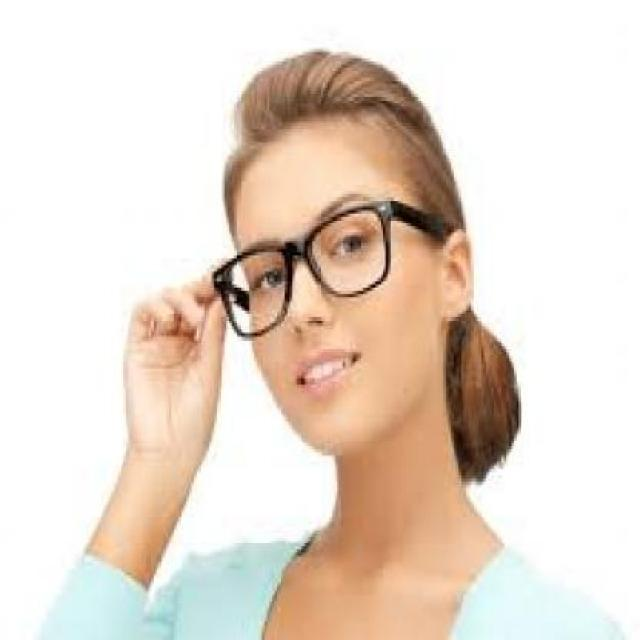glasses: (206, 184, 406, 345)
